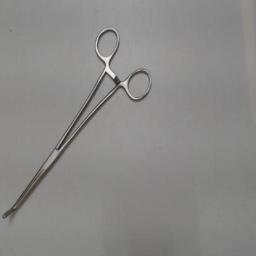Lahey Forceps: (0, 22, 158, 226)
